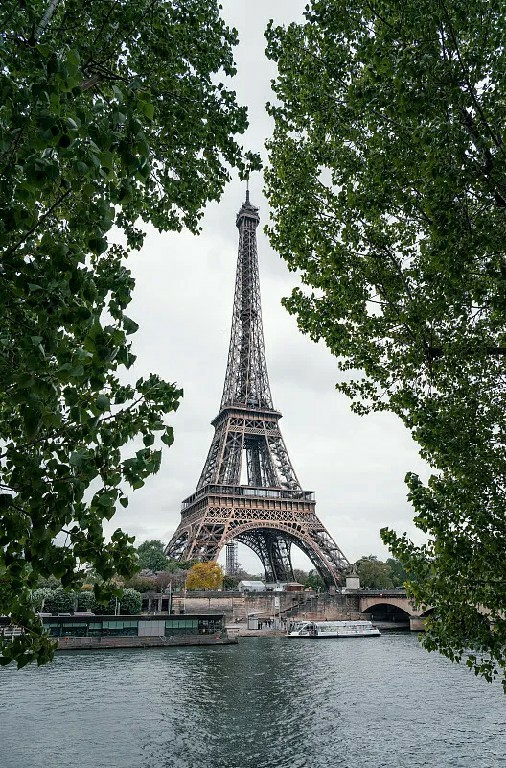Eiffel: (164, 176, 357, 593)
